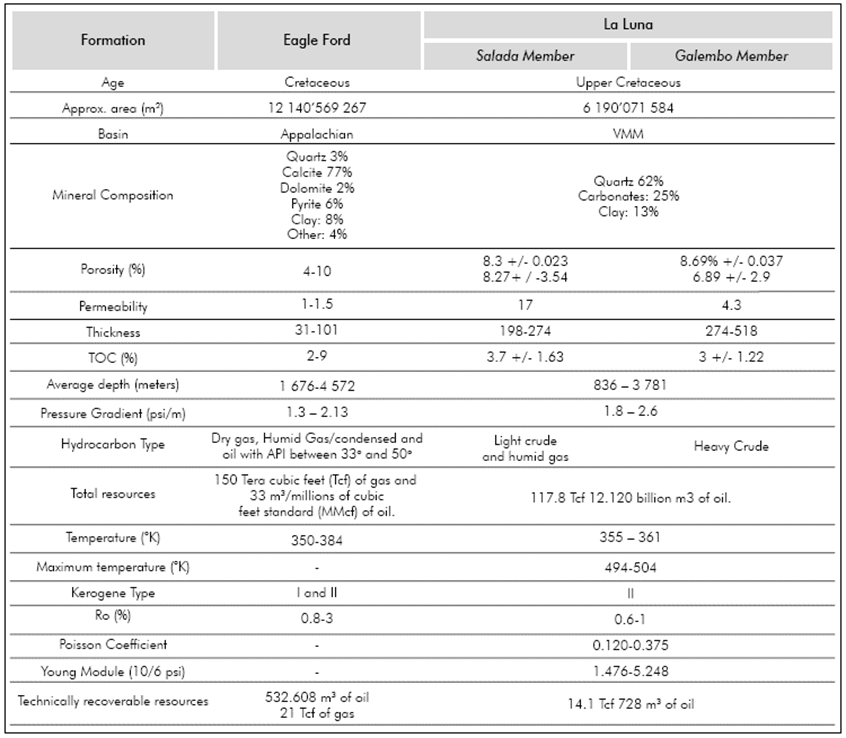fracking table: (5, 2, 846, 734)
